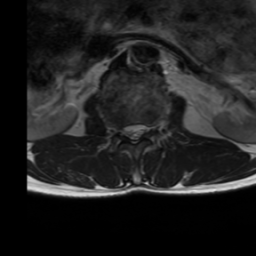CCS_normal: (130, 118, 138, 149)
LFS_stenosis: (146, 115, 155, 140)
LLS_normal: (138, 118, 147, 142)
RFS_stenosis: (114, 117, 123, 141)
RLS_normal: (123, 118, 130, 142)
